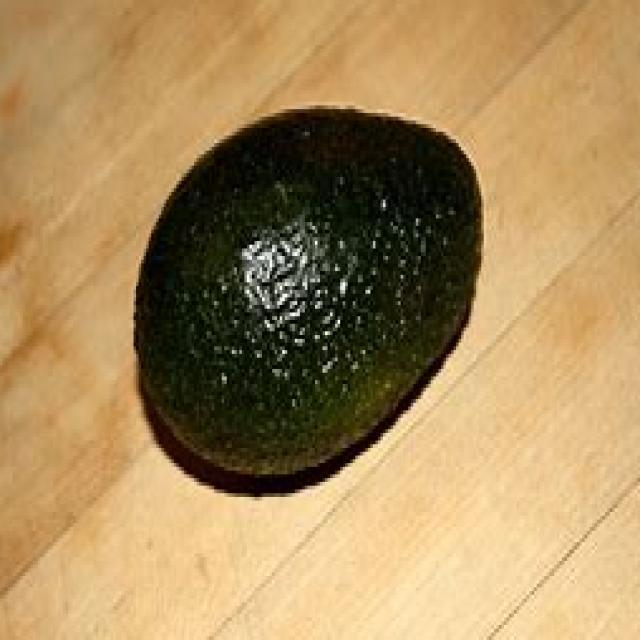avocado: (119, 102, 491, 501)
